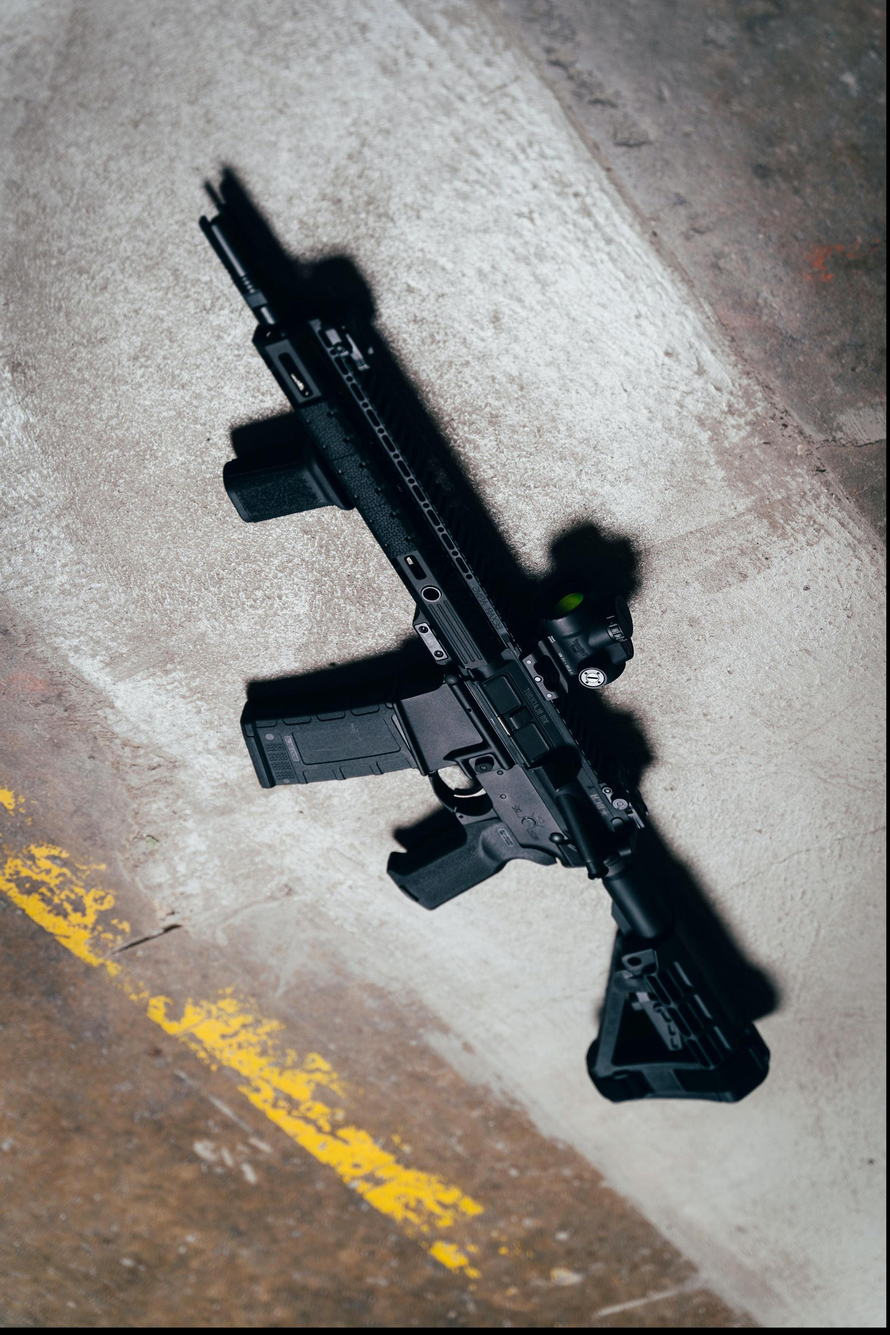larga: (190, 134, 794, 1112)
